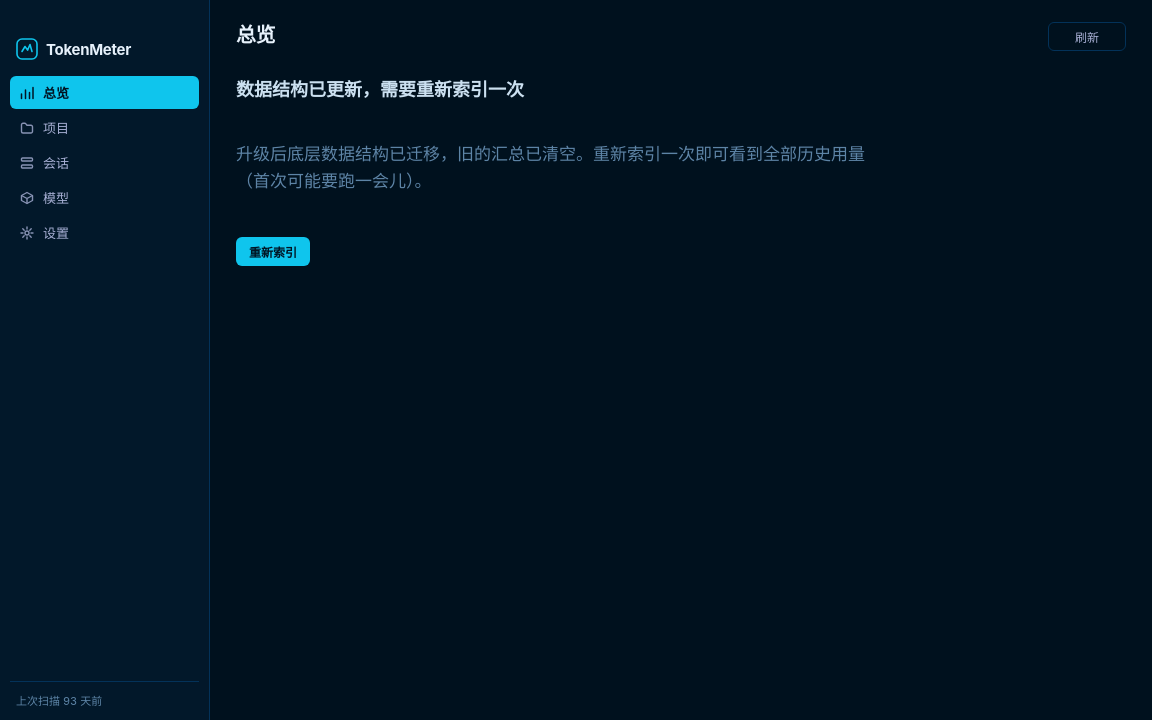
Test: AppShell renderer routes › uses the shared chart motion on project sparklines, columns, and distribution bars
Click the button "项目" at (104, 128), box [10, 111, 199, 144]
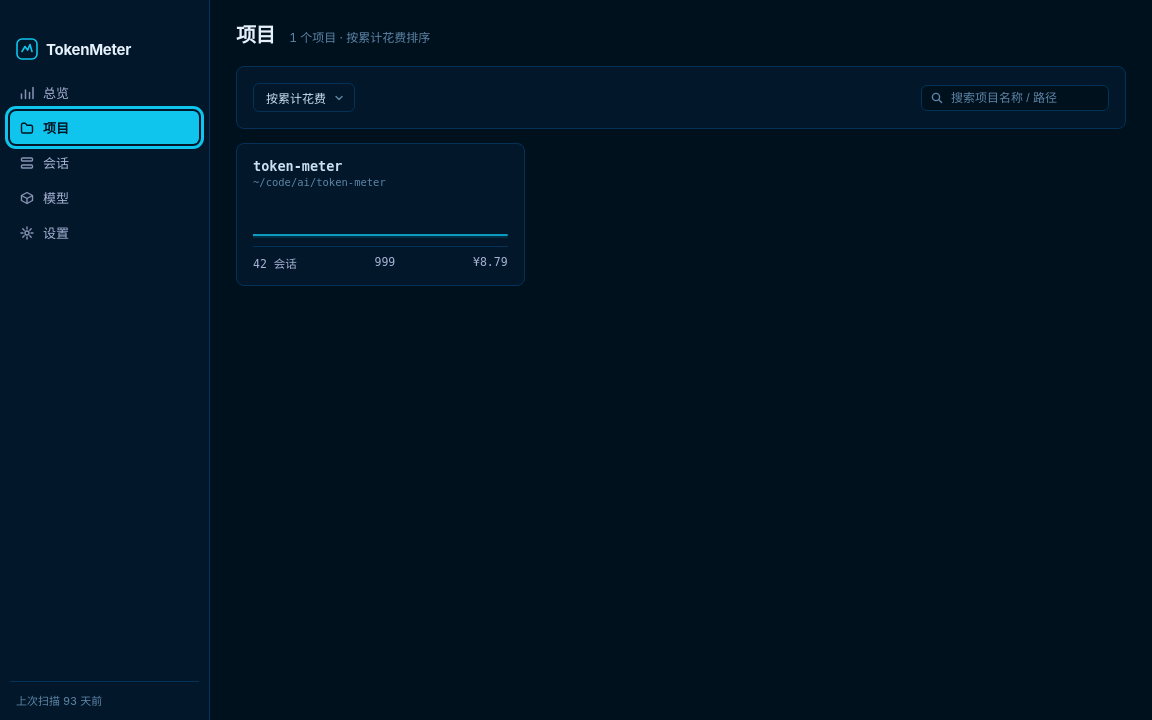
Now the text "token-meter" is shown, box [253, 158, 342, 174]
Click the button "token-meter ~/code/ai/token-meter 42 会话 999 ¥8.79" at (380, 214), box [236, 143, 525, 286]
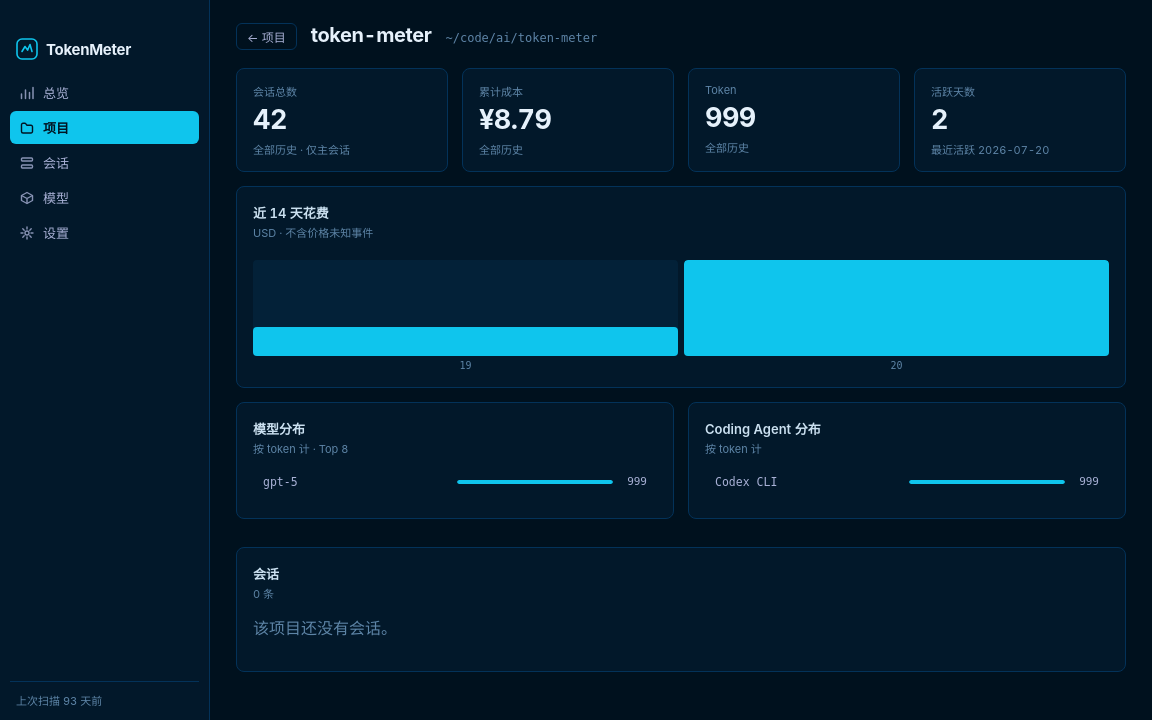
Now the number of icons with class "chart-bar-y-in" is 2, box [253, 327, 678, 356]; [684, 260, 1109, 356]
Now the number of icons with class "chart-bar-x-in" is 2, box [457, 480, 613, 484]; [909, 480, 1065, 484]
